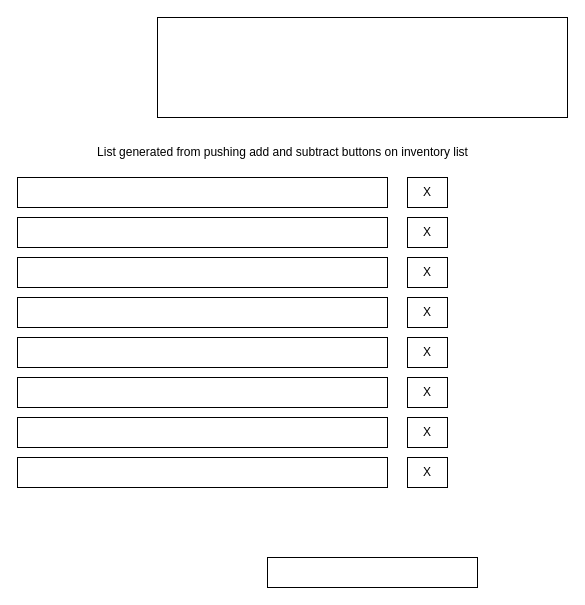
Some shapes in this 585 by 605 pixel diagram are drawn without their labels. Each missing label, with the centre of its shape:
"Delete List" goes at [372,572].
"logo and title Generated List" goes at [362,67].
